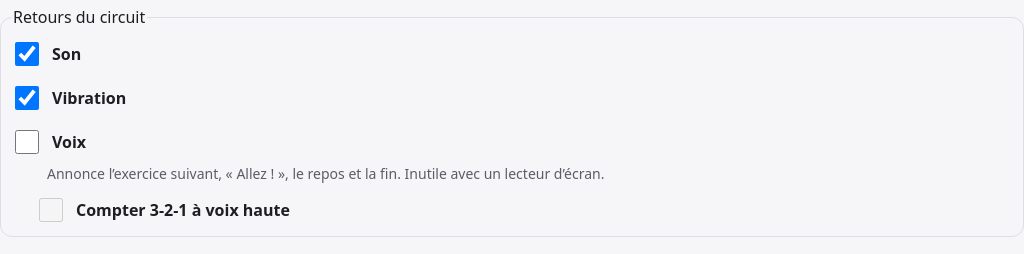
Test: ReglagesRetours › le compte à rebours parlé n’est proposé que si la voix est activée
The width and height of the screenshot is (1024, 254).
expect the switch labelled "Compter 3-2-1 à voix haute" is disabled: met, box [39,198,63,222]
Click the switch labelled "Voix": (27, 142) [15,130,39,154]
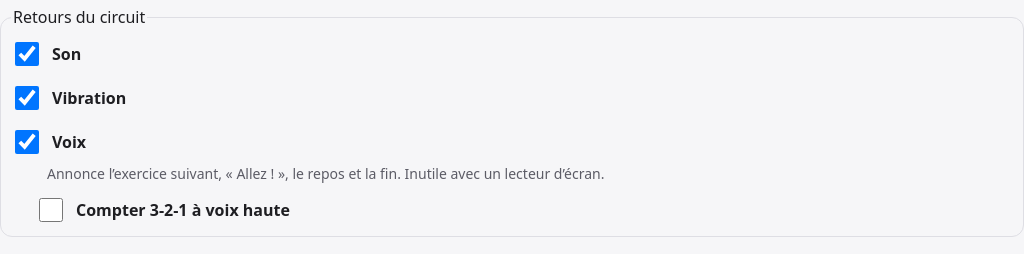
expect the switch labelled "Compter 3-2-1 à voix haute" is enabled: met, box [39,198,63,222]
